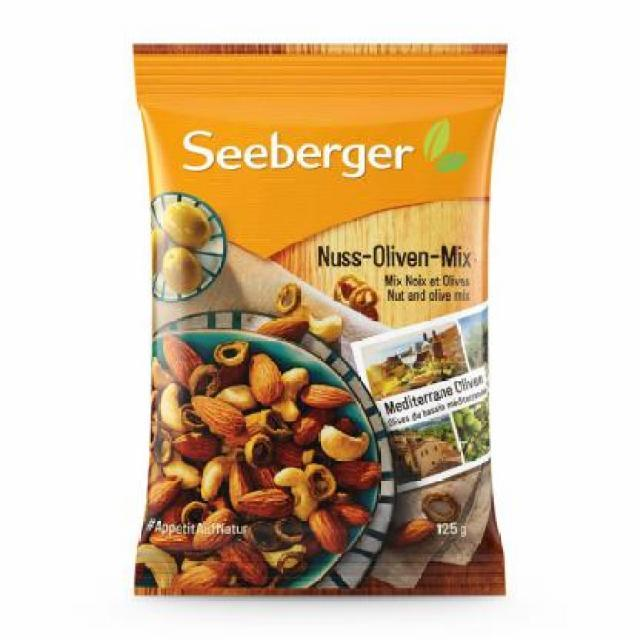Frutta secca: (162, 368, 326, 577)
